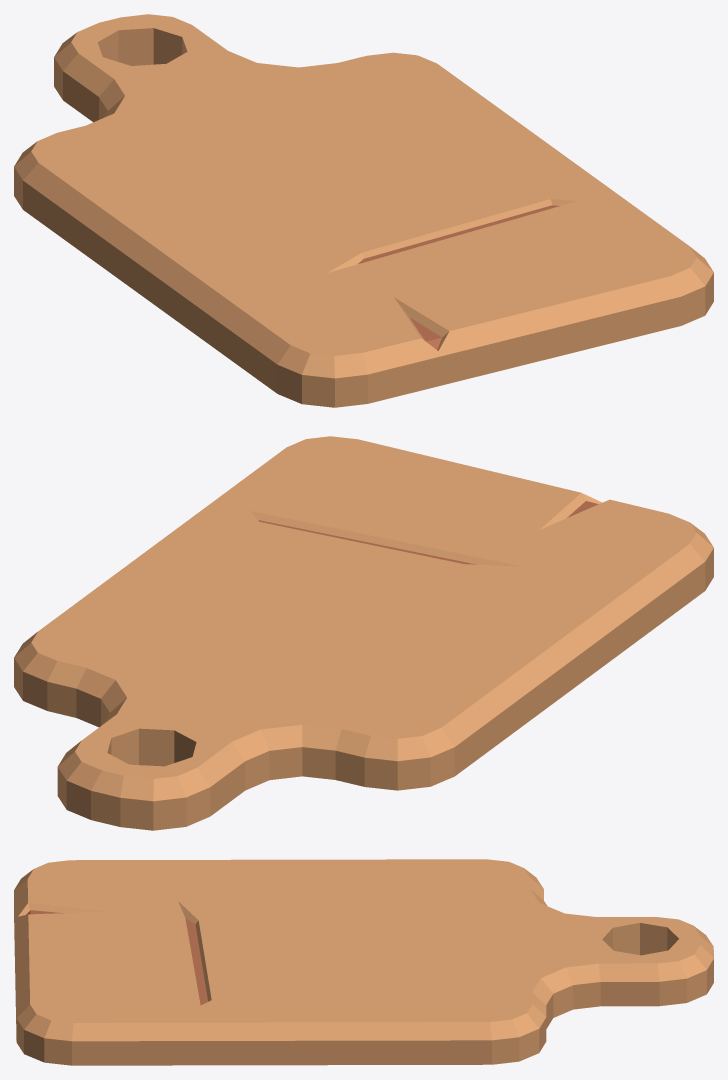
File: Cutting Board 02.fbx
3 renders of one model, top to bottom at view 1: azimuth 30°, elevation 25°; view 2: azimuth 150°, elevation 25°; view 3: azimuth 270°, elevation 25°, orthographic. The views are drawn at different scales.
Visible parts, largest first — view 1: Cutting Board 02; view 2: Cutting Board 02; view 3: Cutting Board 02.
Boxes of the visible parts, x1,y1,x2,y2 form: Cutting Board 02: [14, 14, 713, 407]; Cutting Board 02: [14, 436, 713, 830]; Cutting Board 02: [14, 859, 713, 1065].
Bounding box in the file's own units: 64.26 × 6.32 × 108.
